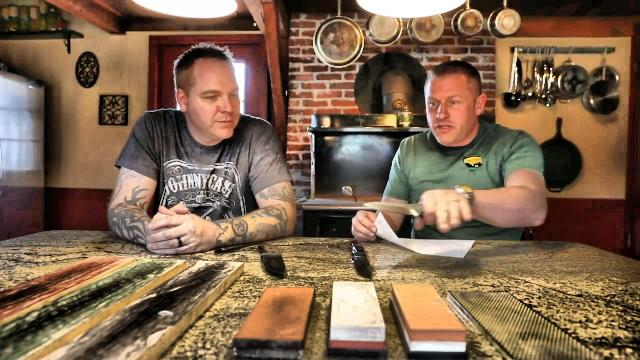knife: (354, 181, 456, 231)
